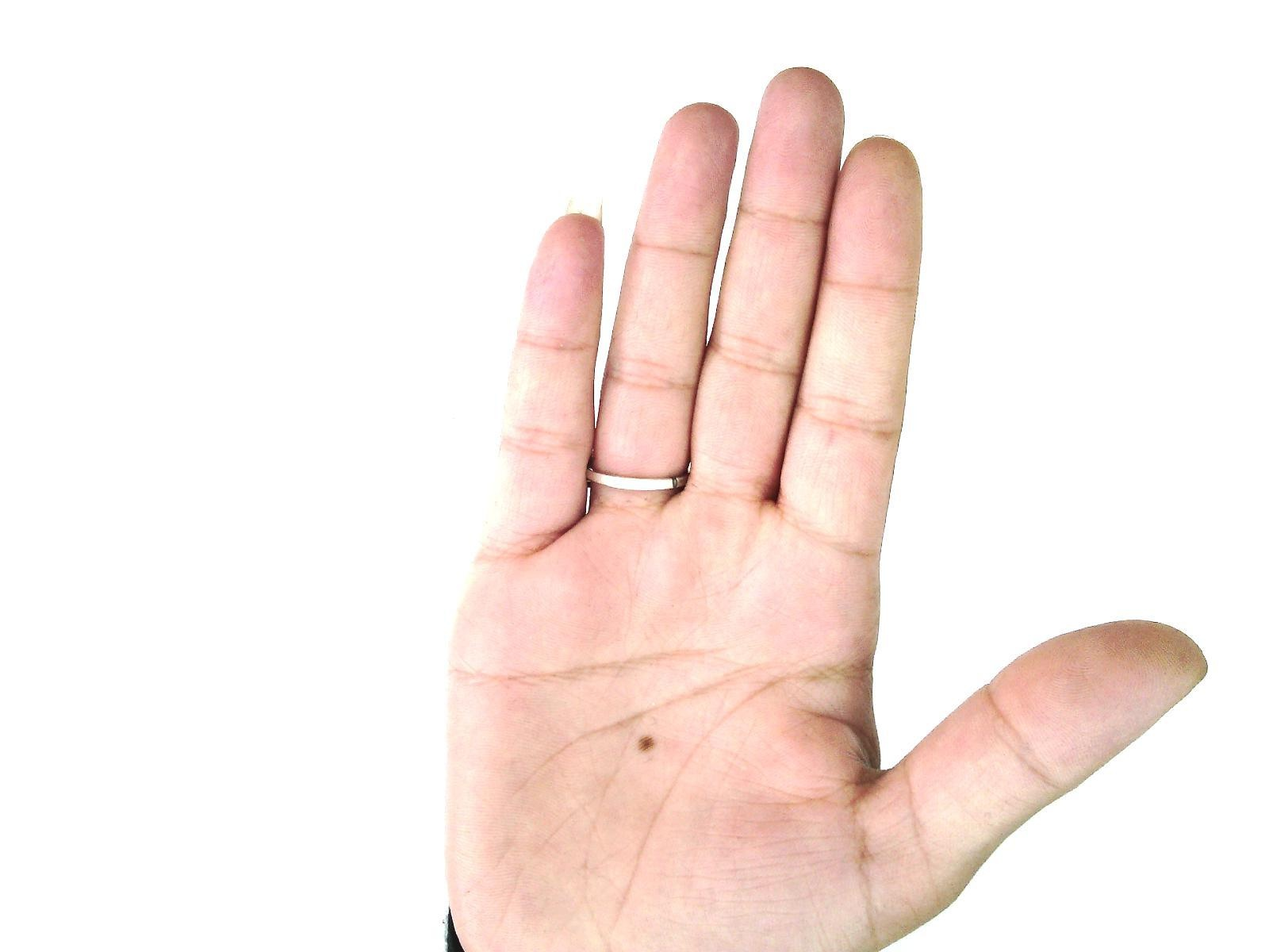open_palm: (439, 65, 1210, 951)
